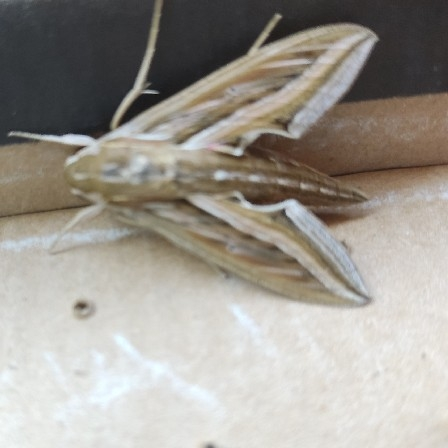Not_a_Chicken: (10, 26, 411, 327)
